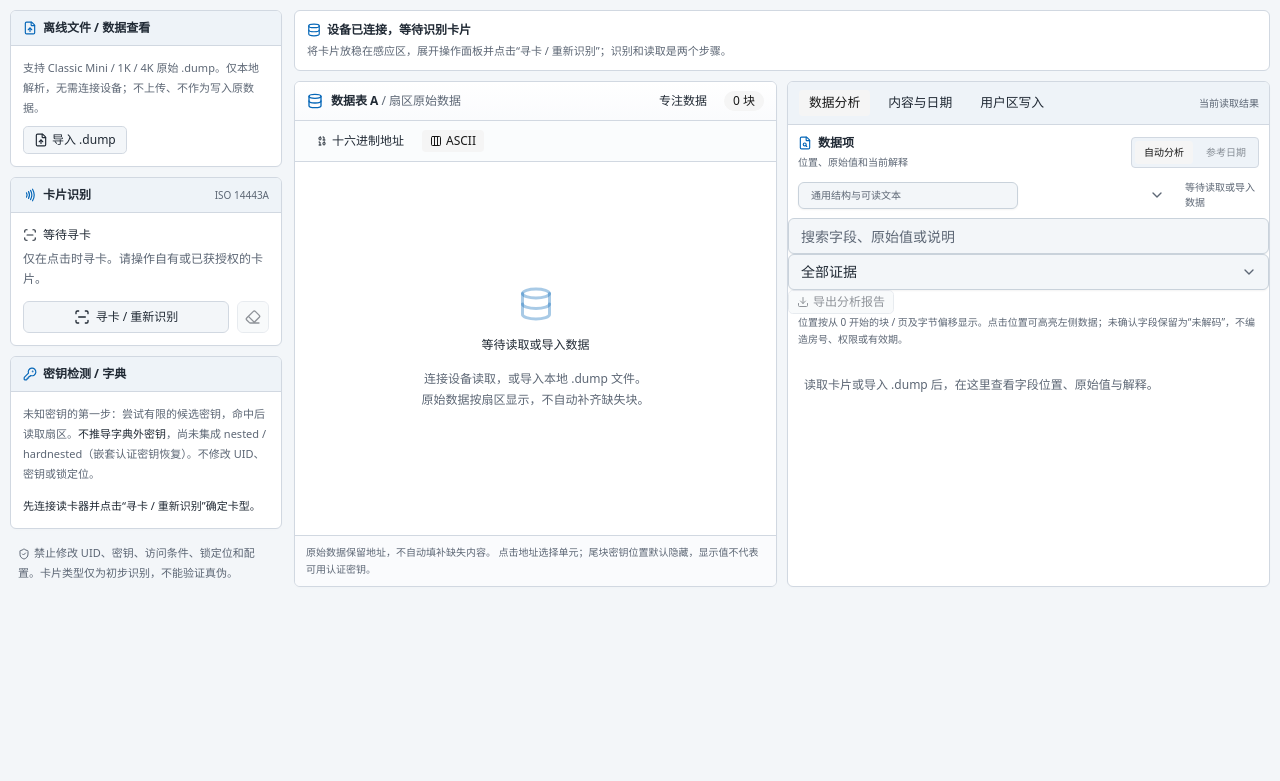
Test case: card panel desktop UI › identifies a card, shows raw identity, submits one known key and clears the input
Click the button "寻卡 / 重新识别": (126,317) [23,301,229,333]
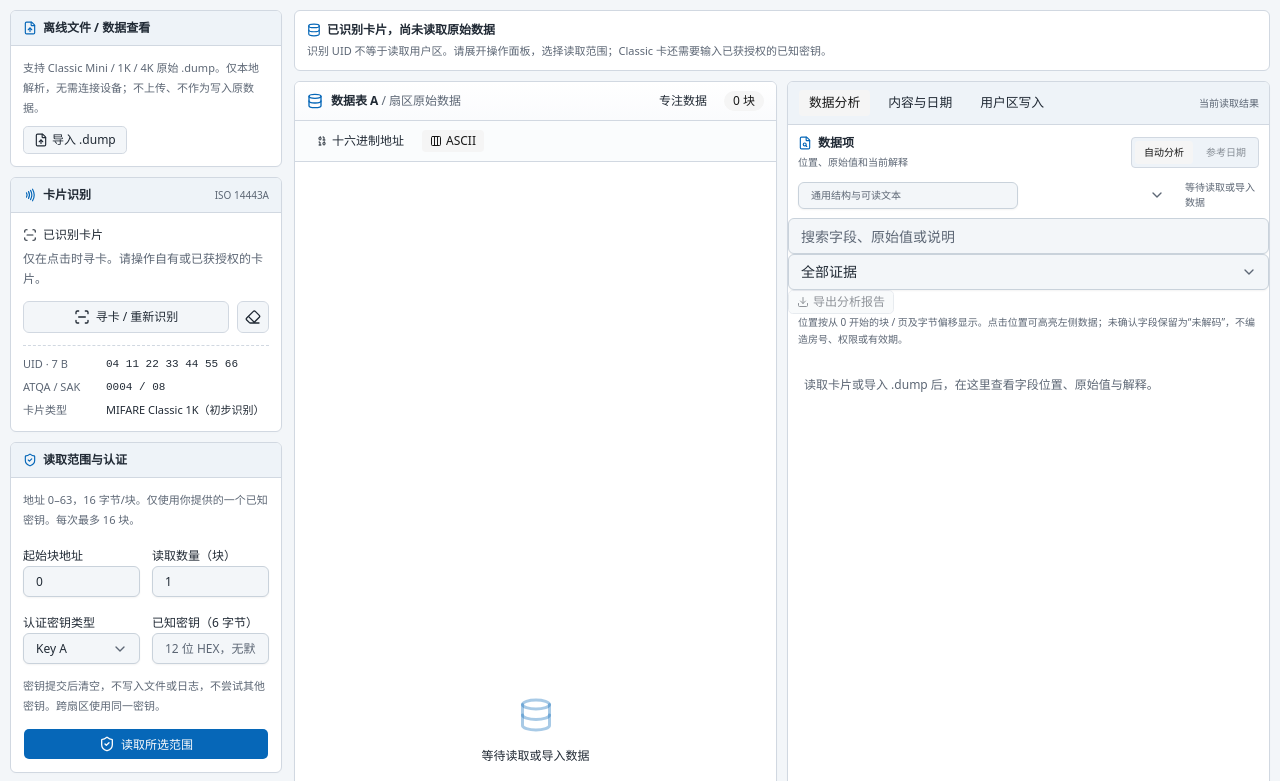
Check: the text "04 11 22 33 44 55 66" is shown, box [106,358,238,370]
Check: the text "MIFARE Classic 1K（初步识别）" is shown, box [106,401,269,419]
Check: the password field labelled "已知密钥（6 字节）" is empty, box [152,633,269,664]
Replace the text in the number field labelled "起始块地址" with "4": (82,582) [23,566,140,597]
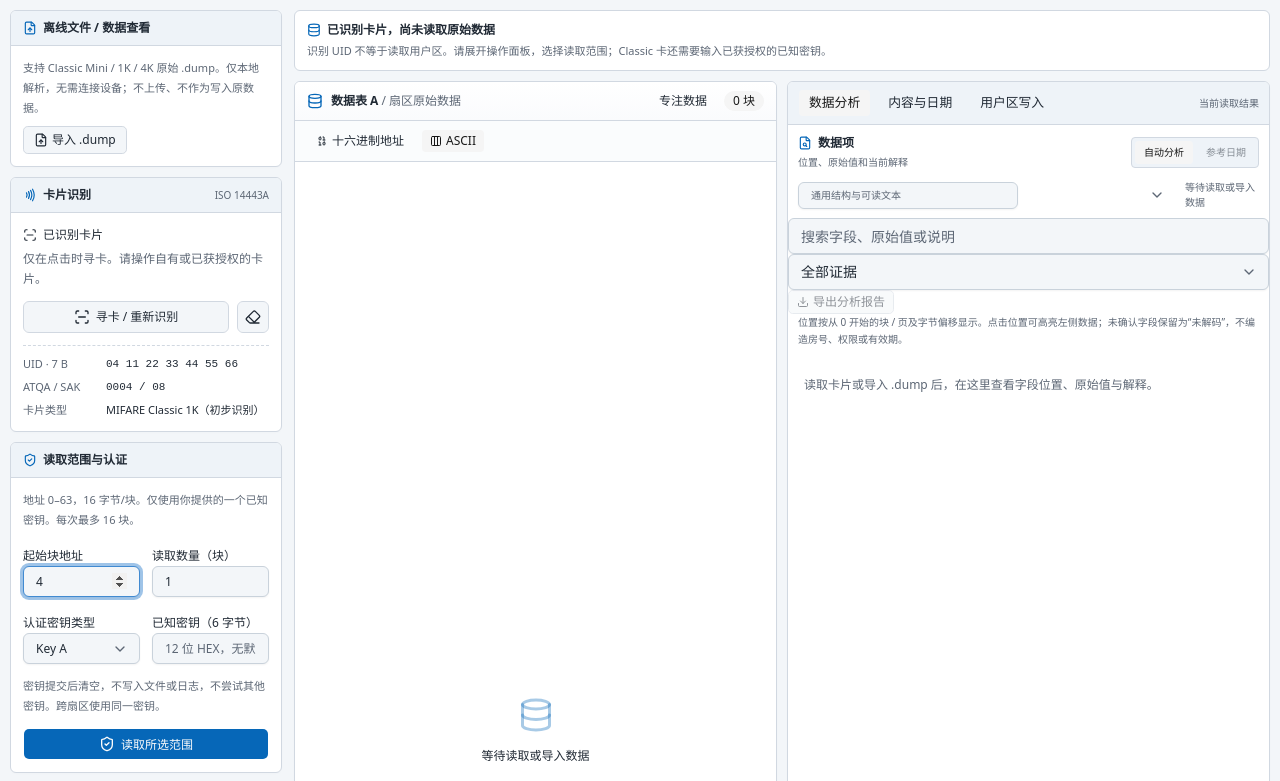
Select "Key B" in the dropdown labelled "认证密钥类型": (82,649) [23,633,140,664]
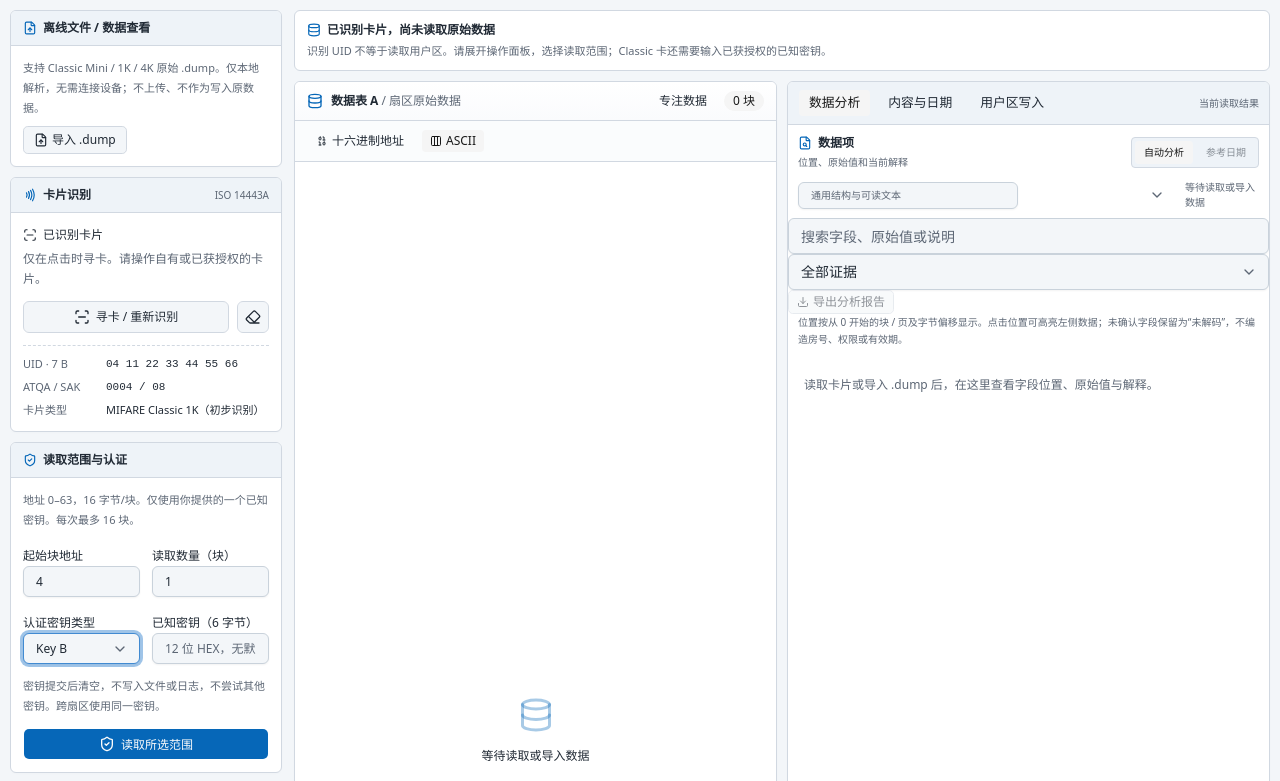
In the password field labelled "已知密钥（6 字节）": (210,649) [152,633,269,664], type "112233445566"
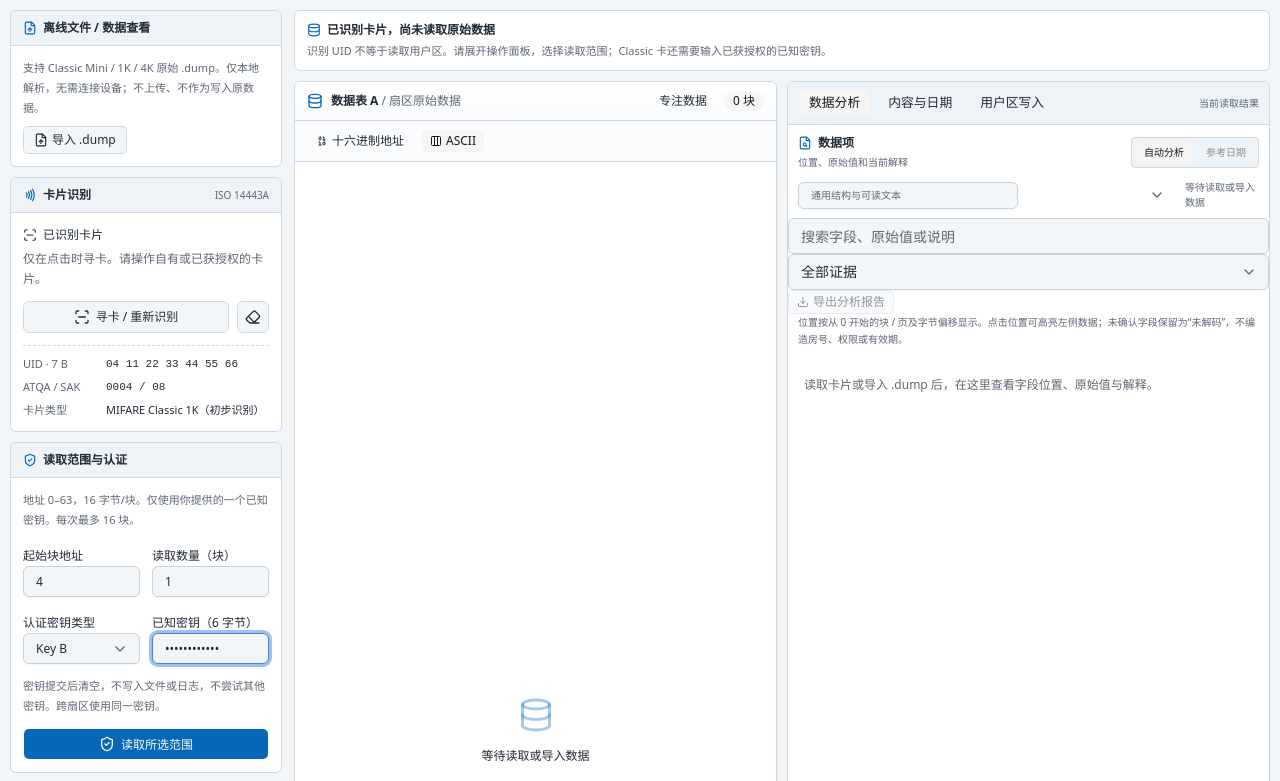
Click the button "读取所选范围": (146,744) [23,728,269,760]
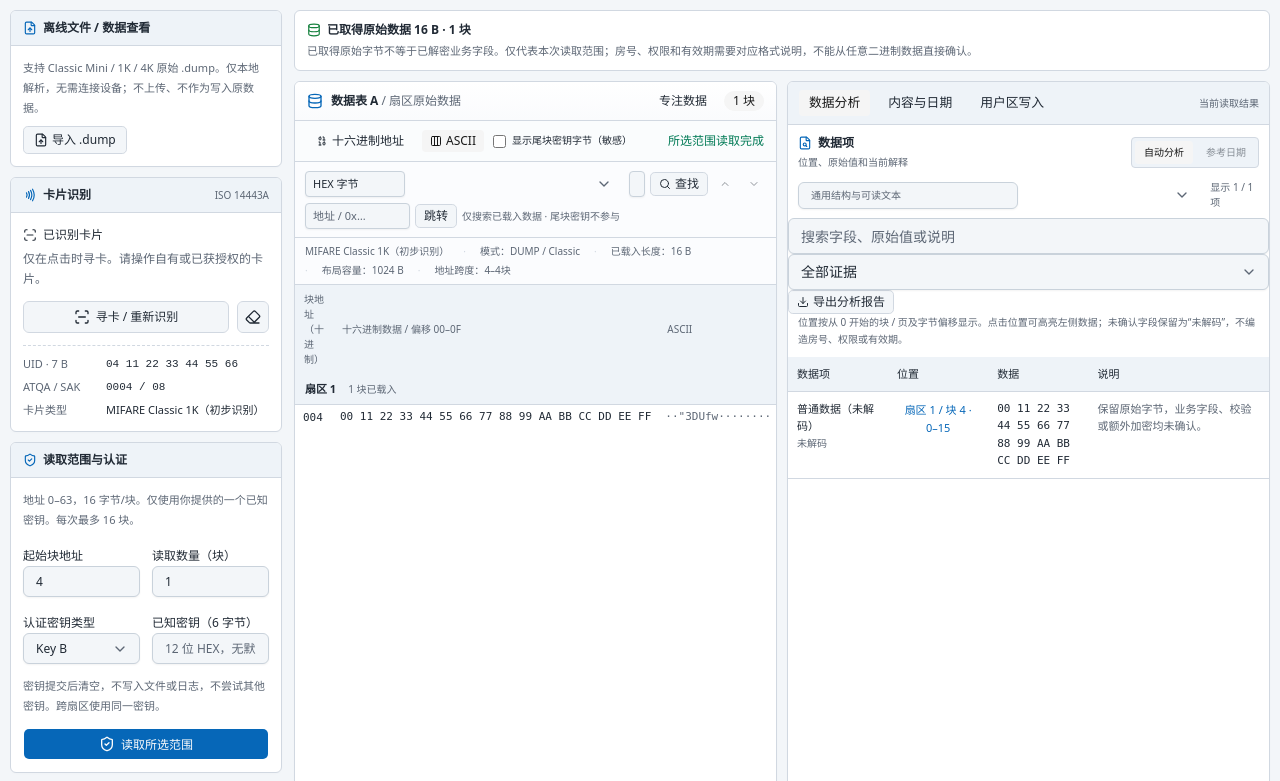
Check: the text "所选范围读取完成" is shown, box [668,133,764,149]
Check: the text "00 11 22 33 44 55 66 77 88 99 AA BB CC DD EE FF" is shown, box [340,410,651,423]
Check: the password field labelled "已知密钥（6 字节）" is empty, box [152,633,269,664]
Click the button named "清除结果": (253,317) [237,301,269,333]
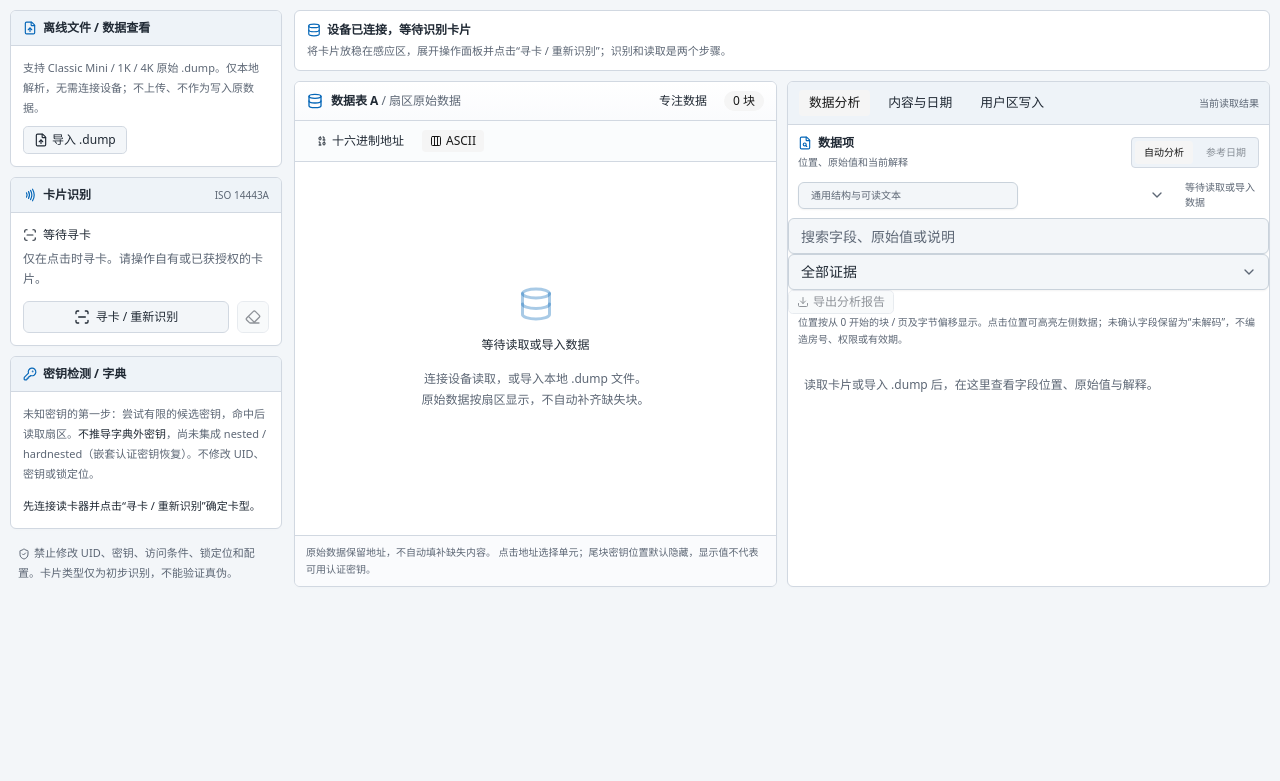
Check: the text "所选范围读取完成" is gone
Check: the label labelled "已知密钥（6 字节）" is gone
